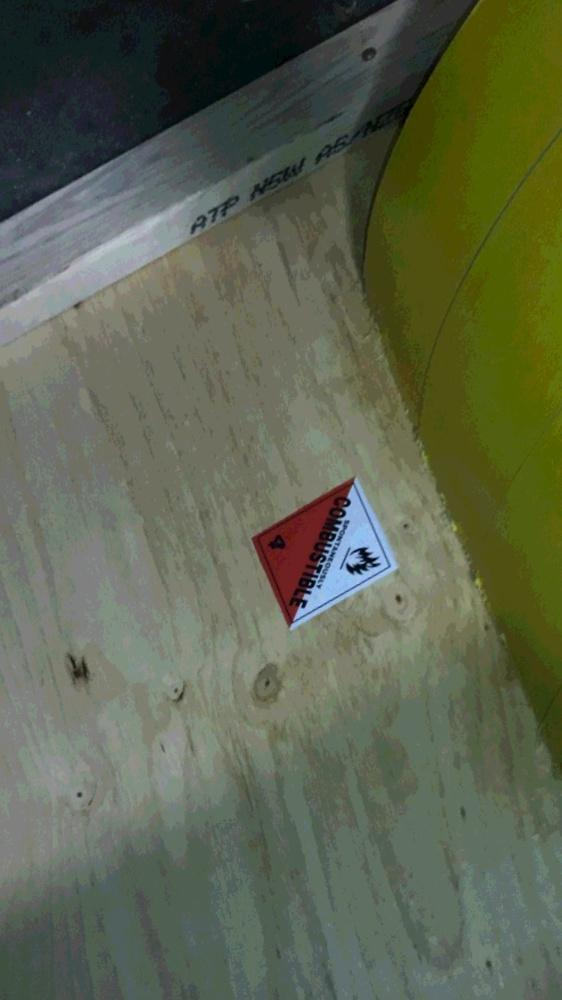spontaneously-combustible: (251, 469, 400, 637)
